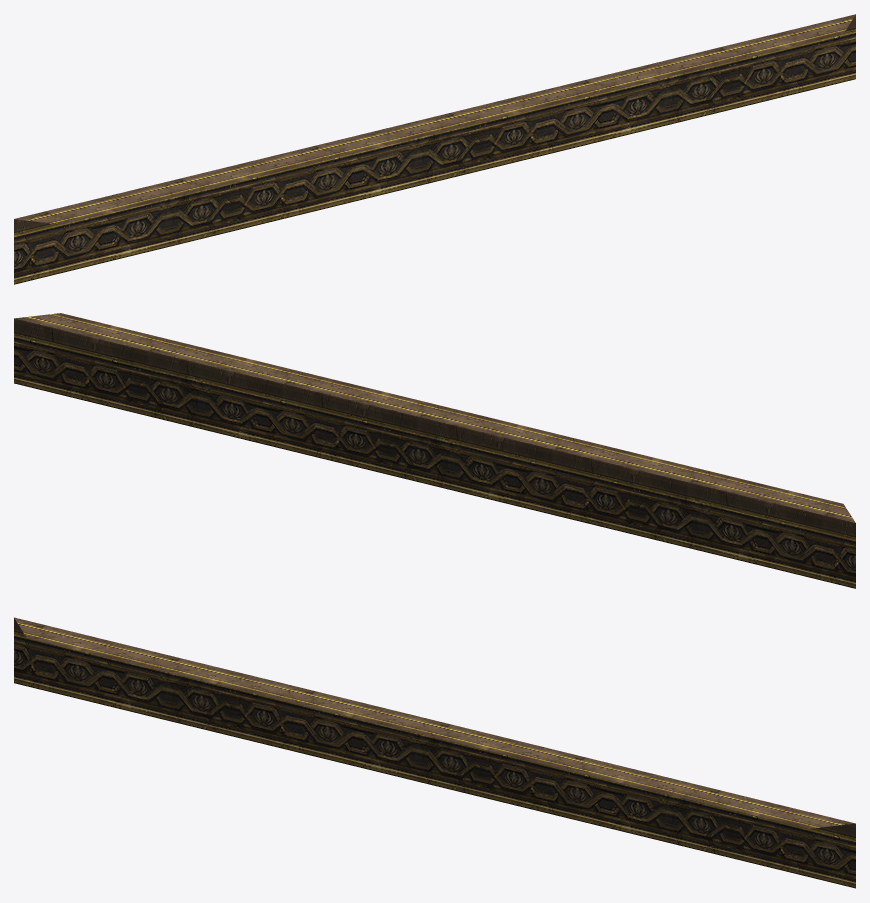
Rendered from A03_battle_a_part_03.FBX.
3 views of the same model, one above another, from view 1: azimuth 30°, elevation 25°; view 2: azimuth 150°, elevation 25°; view 3: azimuth 330°, elevation 25° (orthographic).
Parts seen in each view (by area): view 1: A03_battle_a_part_03; view 2: A03_battle_a_part_03; view 3: A03_battle_a_part_03.
Part boxes in pixels (box(x1,y1,x2,y2)): A03_battle_a_part_03: box(14, 14, 855, 284); A03_battle_a_part_03: box(14, 313, 855, 588); A03_battle_a_part_03: box(14, 617, 855, 888).
Bounding box in the file's own units: 12.74 × 0.9513 × 0.4518.
